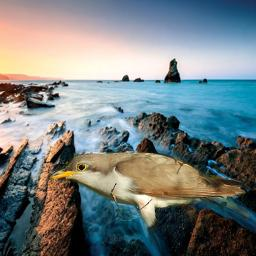Cuckoo: (46, 149, 249, 246)
